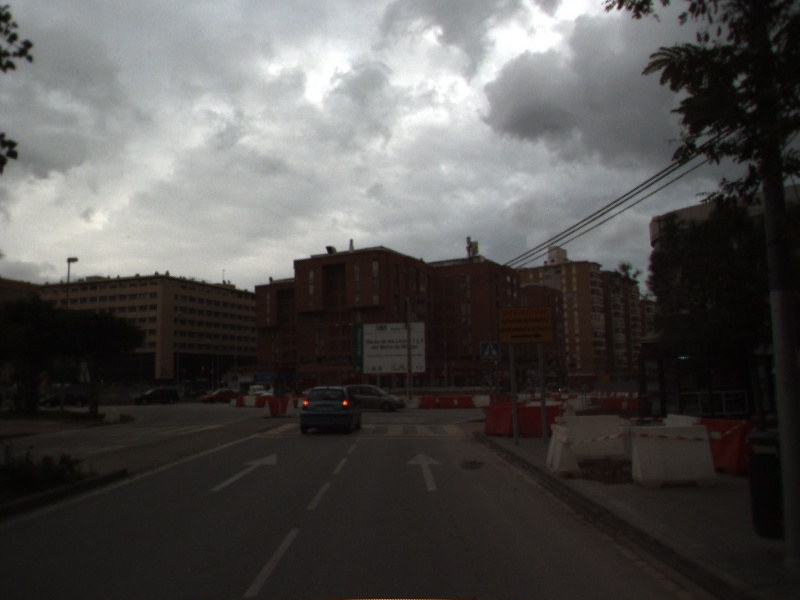STRAIGHT: (209, 450, 280, 493), (404, 450, 446, 492)
